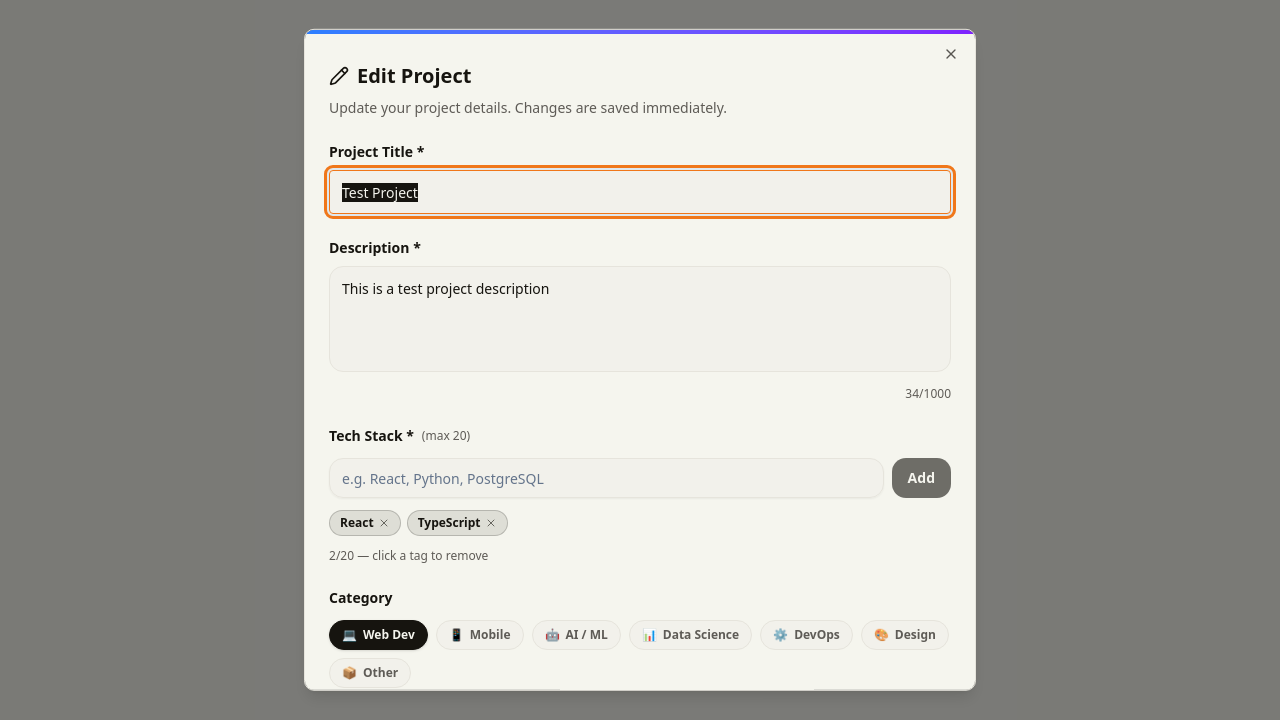
Test case: EditProjectModal - Tech Stack › adds a new tech tag when Enter key is pressed
The image size is (1280, 720).
Type "PostgreSQL" into the field with placeholder "e.g. React, Python, PostgreSQL".
click(606, 478); type("PostgreSQL")  # box [329,458,884,498]
Then press Enter
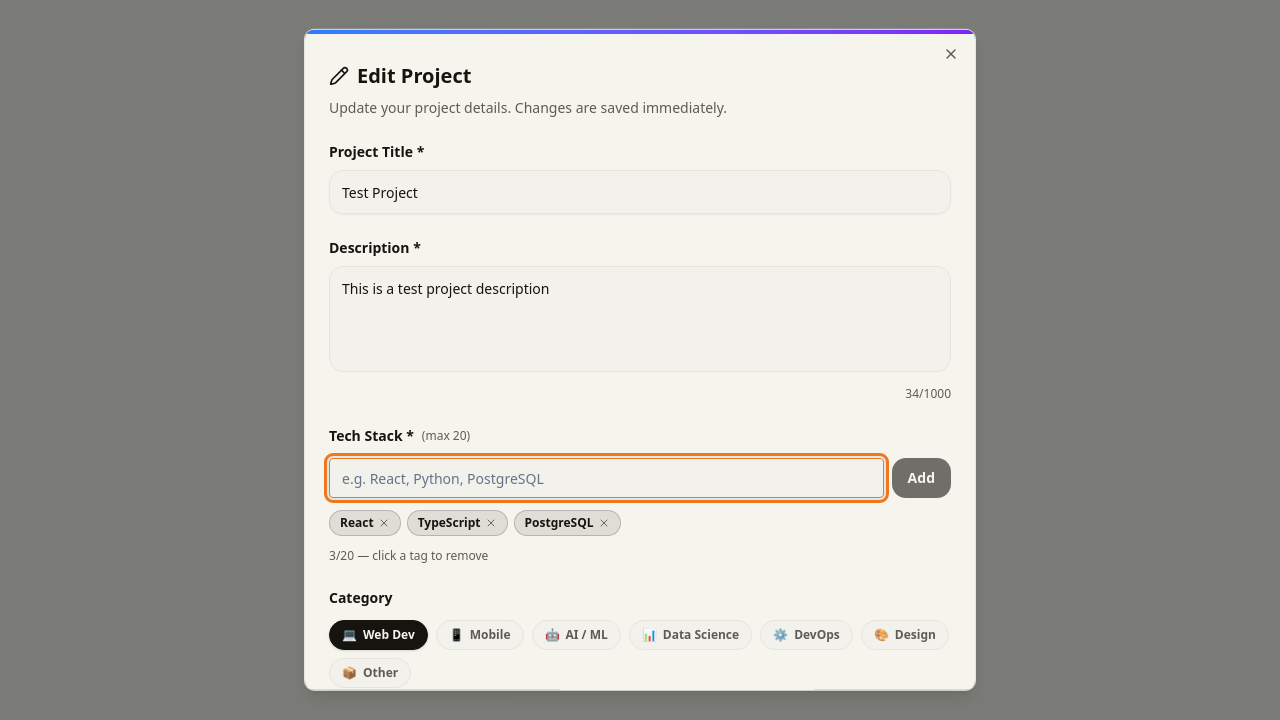
Now the text "PostgreSQL" is shown, box [514,510,621,536]
